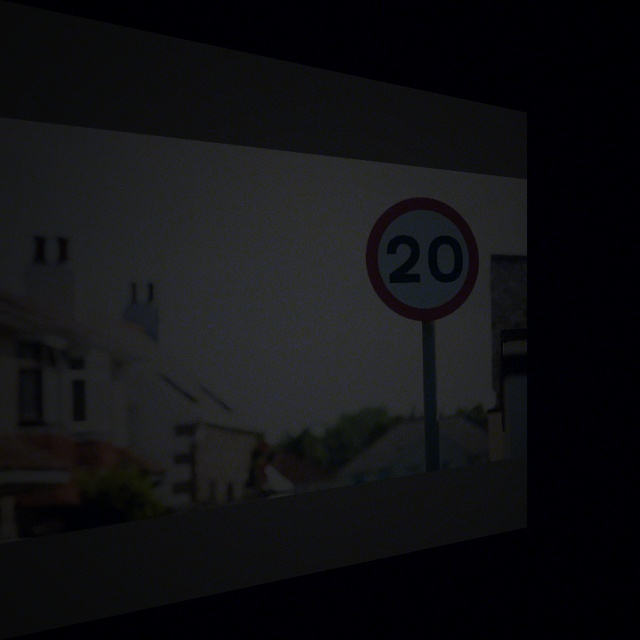Speed_Limit_20: (366, 191, 476, 320)
